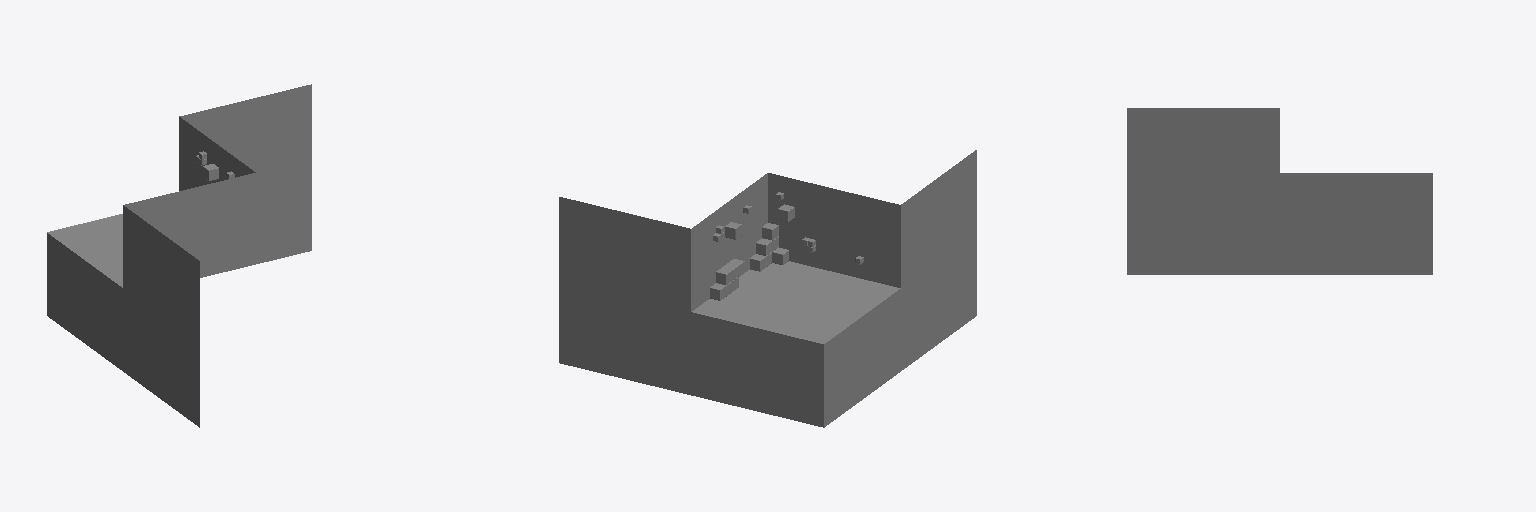
Rendered from CubeRoom.obj.
3 views of the same model, side by side, from view 1: azimuth 30°, elevation 25°; view 2: azimuth 150°, elevation 25°; view 3: azimuth 270°, elevation 25° (orthographic).
Parts seen in each view (by area): view 1: CubeRoom_GEO; view 2: CubeRoom_GEO; view 3: CubeRoom_GEO.
Part boxes in pixels (left/top/right/bottom): CubeRoom_GEO: left=47, top=84, right=311, bottom=427; CubeRoom_GEO: left=559, top=150, right=976, bottom=427; CubeRoom_GEO: left=1127, top=108, right=1432, bottom=274.
Size of the model in its own units: 20 by 12 by 20.